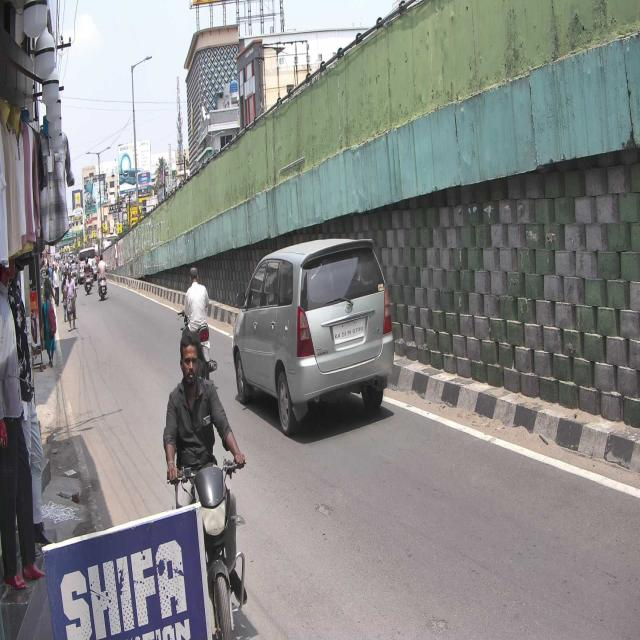single_rider: (161, 327, 249, 640)
